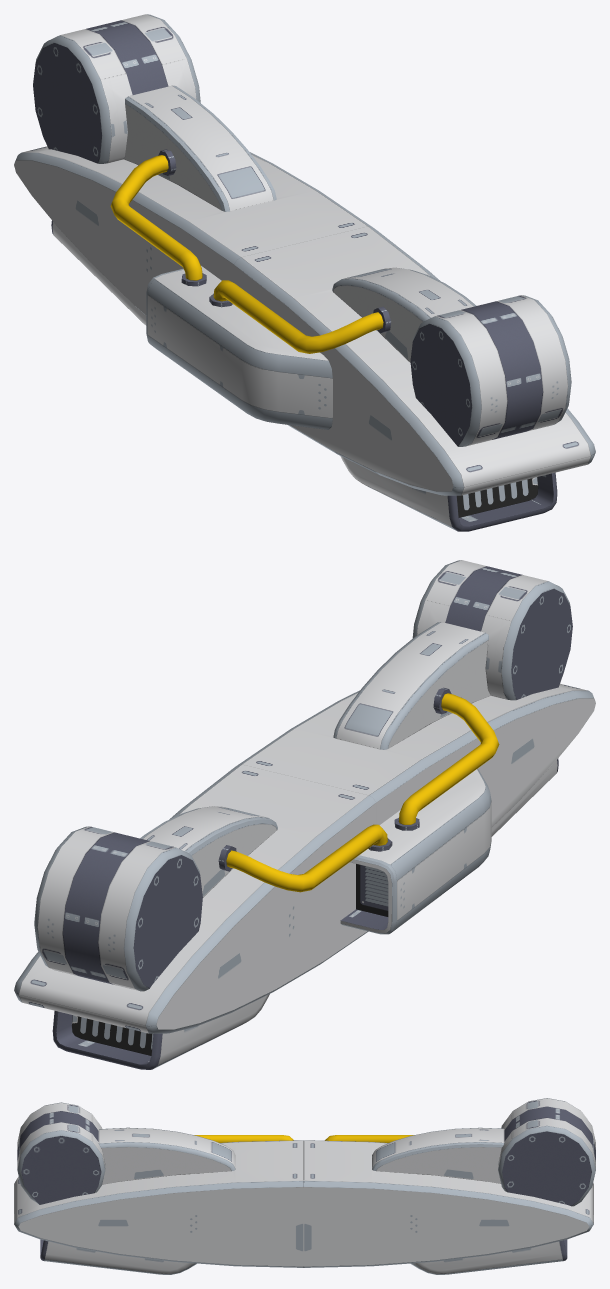
The model's file is Reactor_Support_05.FBX.
3 renders of one model, top to bottom at view 1: azimuth 30°, elevation 25°; view 2: azimuth 150°, elevation 25°; view 3: azimuth 270°, elevation 25°, orthographic. The views are drawn at different scales.
Parts seen in each view (by area): view 1: Reactor_Support_05; view 2: Reactor_Support_05; view 3: Reactor_Support_05.
Boxes of the visible parts, left/top/right/bottom form: Reactor_Support_05: left=14, top=14, right=595, bottom=531; Reactor_Support_05: left=14, top=560, right=595, bottom=1069; Reactor_Support_05: left=14, top=1098, right=595, bottom=1274.
Size of the model in its own units: 32.93 by 36.84 by 130.
